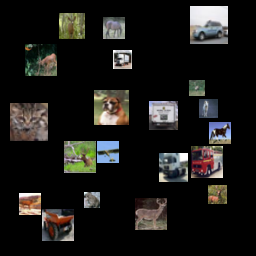airplane: (122, 158, 160, 196), (75, 170, 110, 205), (118, 100, 147, 129)
automobile: (150, 128, 179, 157), (33, 55, 55, 77)
bird: (60, 16, 79, 35)
cat: (43, 179, 72, 208), (109, 208, 138, 237), (189, 92, 218, 121), (154, 52, 176, 74), (4, 145, 23, 164)
deer: (82, 105, 114, 137)
dog: (41, 211, 60, 230)
frog: (151, 82, 177, 108), (31, 109, 53, 131), (55, 125, 71, 141)
ship: (214, 179, 243, 208)
